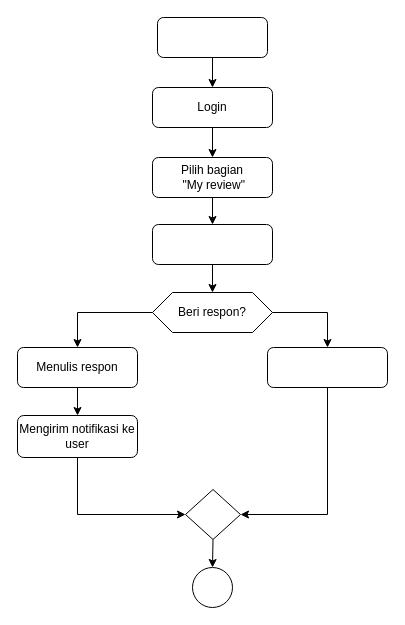
Image size: 405x625. Some labels were removed from this diagram. Here are the shapes that lost their labels. From the top down, the box of each, then its label:
(156, 16, 268, 58): Mulai
(152, 224, 272, 264): Tampil detail review (rating, komentar, dll)
(266, 346, 388, 388): Tidak ada aksi lanjut
